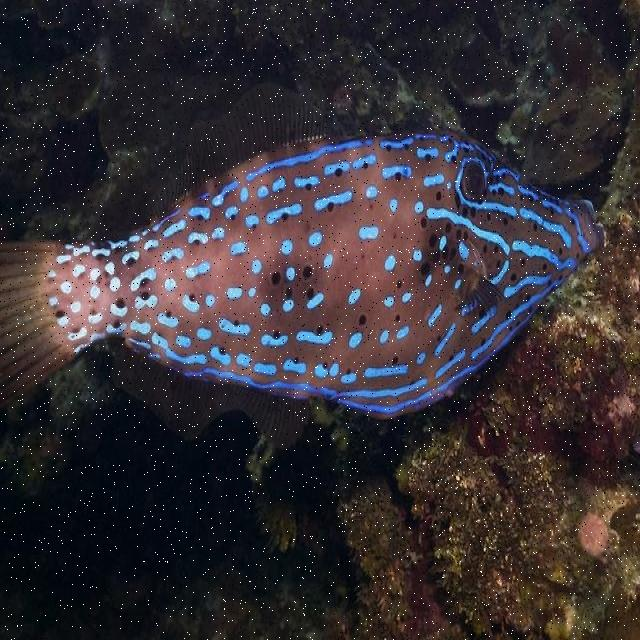fish: (1, 83, 607, 449)
